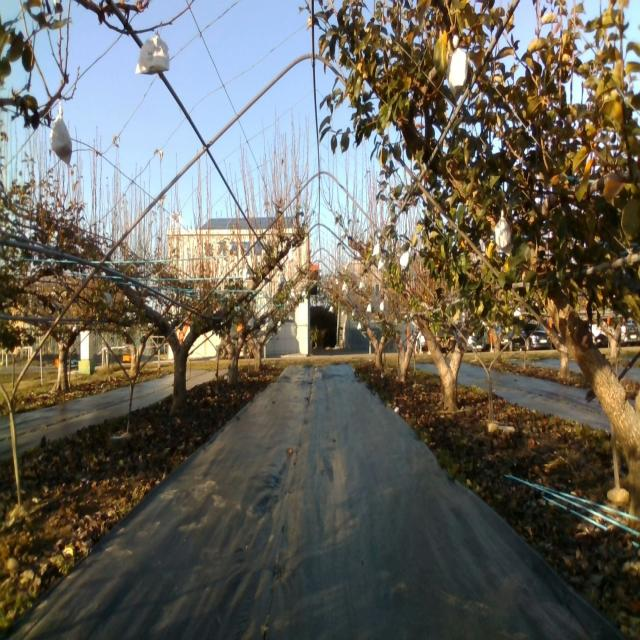pearbags: (134, 29, 170, 78), (50, 100, 74, 164), (446, 46, 468, 99), (494, 214, 511, 248)
